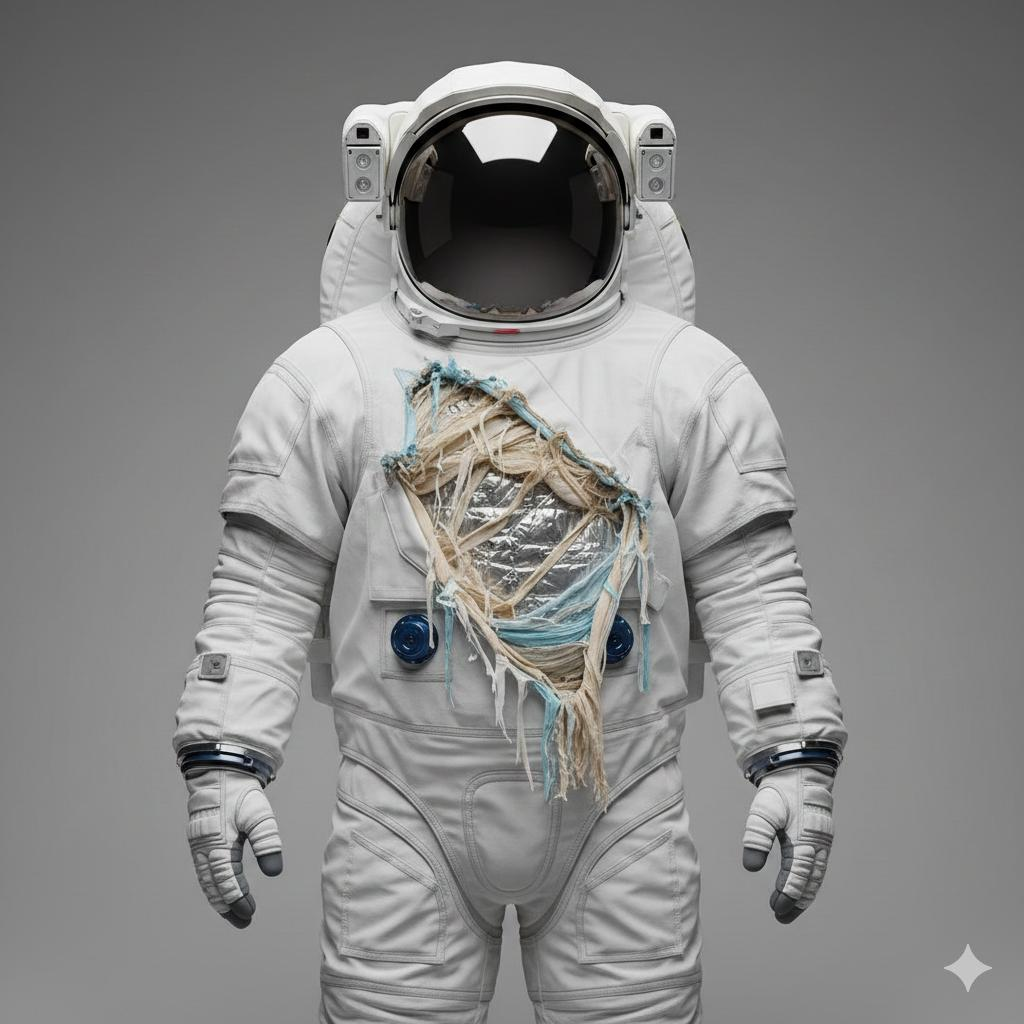tear: (338, 326, 671, 812)
